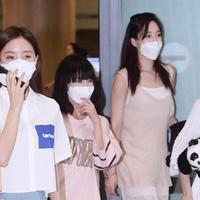OK: (1, 49, 40, 87), (68, 77, 96, 104), (138, 31, 164, 59)
